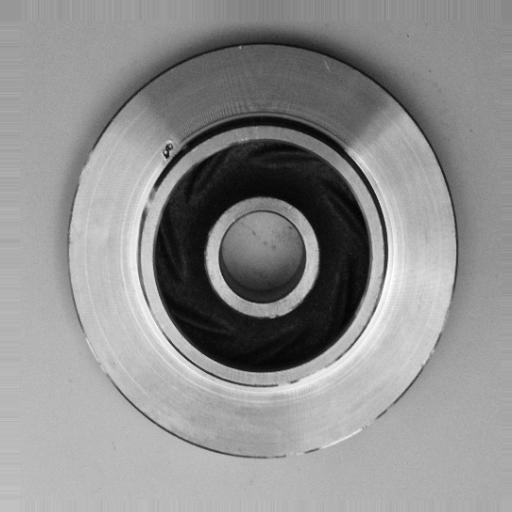crack: (153, 134, 183, 164)
scratch: (260, 354, 345, 403)
unpolished_casting: (67, 41, 460, 461)
